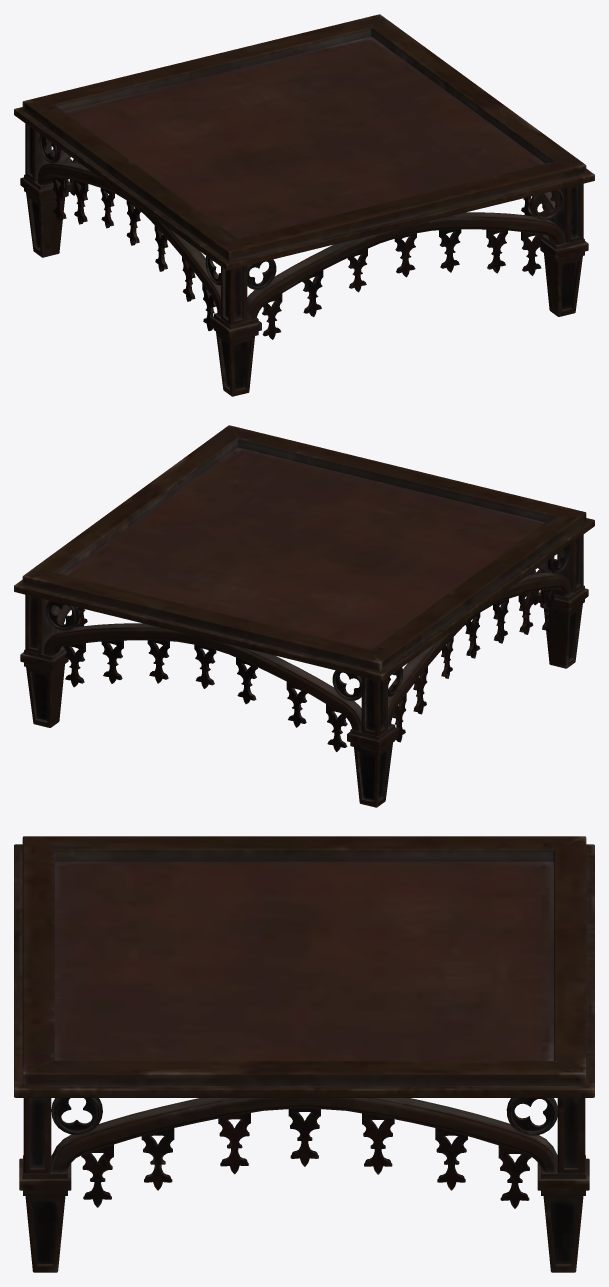
Rendered from gothic_coffee_table.glb.
3 renders of one model, top to bottom at view 1: azimuth 30°, elevation 25°; view 2: azimuth 150°, elevation 25°; view 3: azimuth 270°, elevation 25°, orthographic. The views are drawn at different scales.
Visible parts, largest first — view 1: gothic_coffee_table; view 2: gothic_coffee_table; view 3: gothic_coffee_table.
Boxes of the visible parts, x1,y1,x2,y2 form: gothic_coffee_table: (14, 14, 594, 396); gothic_coffee_table: (14, 425, 594, 807); gothic_coffee_table: (14, 836, 594, 1272).
Size of the model in its own units: 1.44 by 0.5588 by 1.44.
Materials: 1 (1 with a texture image).
